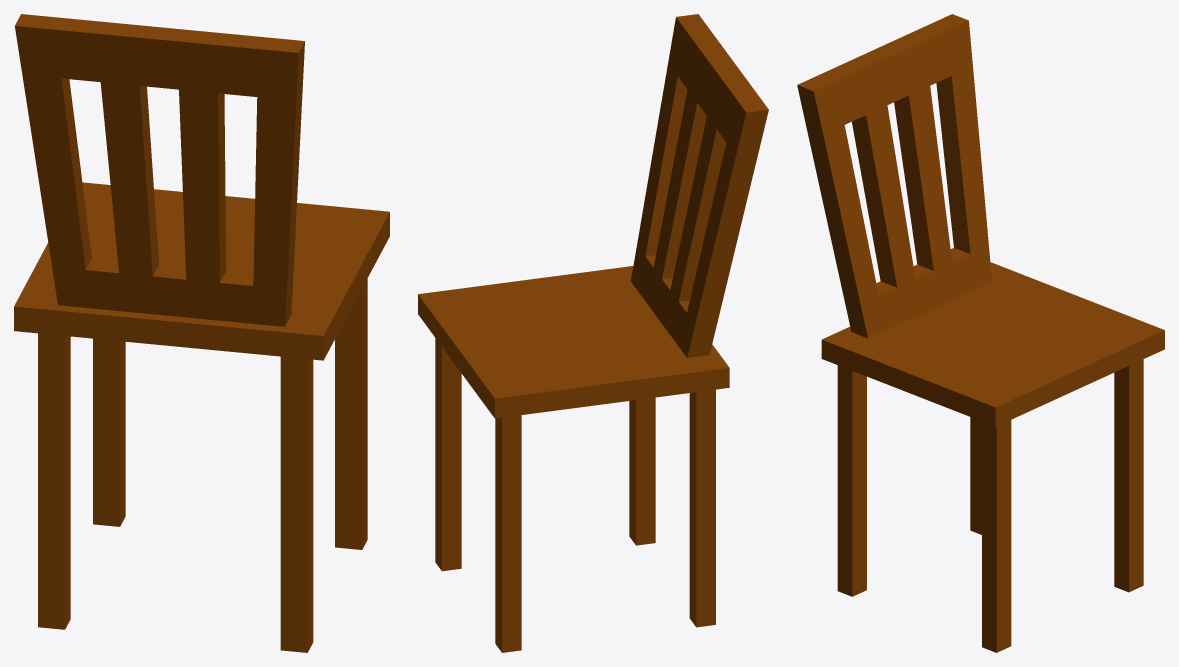
Rendered from Chair.fbx.
3 views of the same model, side by side, from view 1: azimuth 30°, elevation 25°; view 2: azimuth 150°, elevation 25°; view 3: azimuth 270°, elevation 25° (orthographic). The views are drawn at different scales.
Visible parts, largest first — view 1: Chair; view 2: Chair; view 3: Chair.
Part boxes in pixels (bbox=[...]): Chair: bbox=[14, 14, 389, 652]; Chair: bbox=[418, 14, 768, 652]; Chair: bbox=[797, 14, 1164, 652].
Size of the model in its own units: 729 by 1085 by 734.
